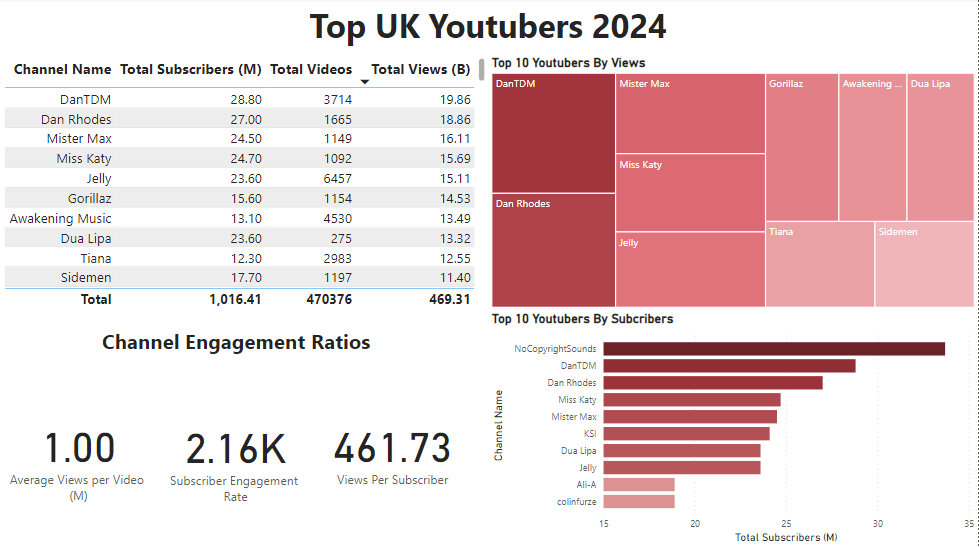

Layout of this report page (visuals, bound fields, positions):
{"tool":"powerbi","page":{"name":"Page 1","canvas":[1280,720],"ordinal":0},"visuals":[{"type":"textbox","box":[326.9,2.9,623.5,72],"z":0},{"type":"tableEx","fields":{"Values":["view_uk_youtubers_2024.Channel_Name","view_uk_youtubers_2024.Total Subscribers (M)","view_uk_youtubers_2024.Total Videos","view_uk_youtubers_2024.Total Views (B)"]},"box":[0,74.7,640,336.8],"z":1000},{"type":"treemap","title":"Top 10 Youtubers By Views","fields":{"Group":["view_uk_youtubers_2024.Channel_Name"],"Values":["view_uk_youtubers_2024.Total Views (B)"]},"box":[638.5,76.2,641.5,335.2],"z":2000},{"type":"card","fields":{"Values":["view_uk_youtubers_2024.Average Views per Video (M)"]},"box":[0,466.3,205.7,254.5],"z":3000},{"type":"card","fields":{"Values":["view_uk_youtubers_2024.Subscriber Engagement Rate"]},"box":[205.7,466.3,205.7,256],"z":4000},{"type":"card","fields":{"Values":["view_uk_youtubers_2024.Views Per Subscriber"]},"box":[411.4,466.3,205.7,254.5],"z":5000},{"type":"clusteredBarChart","title":"Top 10 Youtubers By Subcribers","fields":{"Category":["view_uk_youtubers_2024.Channel_Name"],"Y":["view_uk_youtubers_2024.Total Subscribers (M)"]},"box":[638.5,411.4,641.5,309.3],"z":6000},{"type":"textbox","box":[38.1,411.4,542.5,54.9],"z":6001}]}

Visuals, with their boxes in screenshot pixels (x1, y1, x2, y2), scaled from the page's 1280x720 canvas onto the 979x547 screenshot:
textbox: bbox=[250, 2, 727, 57]
tableEx - view_uk_youtubers_2024.Channel_Name x view_uk_youtubers_2024.Total Subscribers (M): bbox=[0, 57, 490, 313]
"Top 10 Youtubers By Views" treemap: bbox=[488, 58, 978, 313]
card - view_uk_youtubers_2024.Average Views per Video (M): bbox=[0, 354, 157, 546]
card - view_uk_youtubers_2024.Subscriber Engagement Rate: bbox=[157, 354, 315, 546]
card - view_uk_youtubers_2024.Views Per Subscriber: bbox=[315, 354, 472, 546]
"Top 10 Youtubers By Subcribers" clusteredBarChart: bbox=[488, 313, 978, 546]
textbox: bbox=[29, 313, 444, 354]
